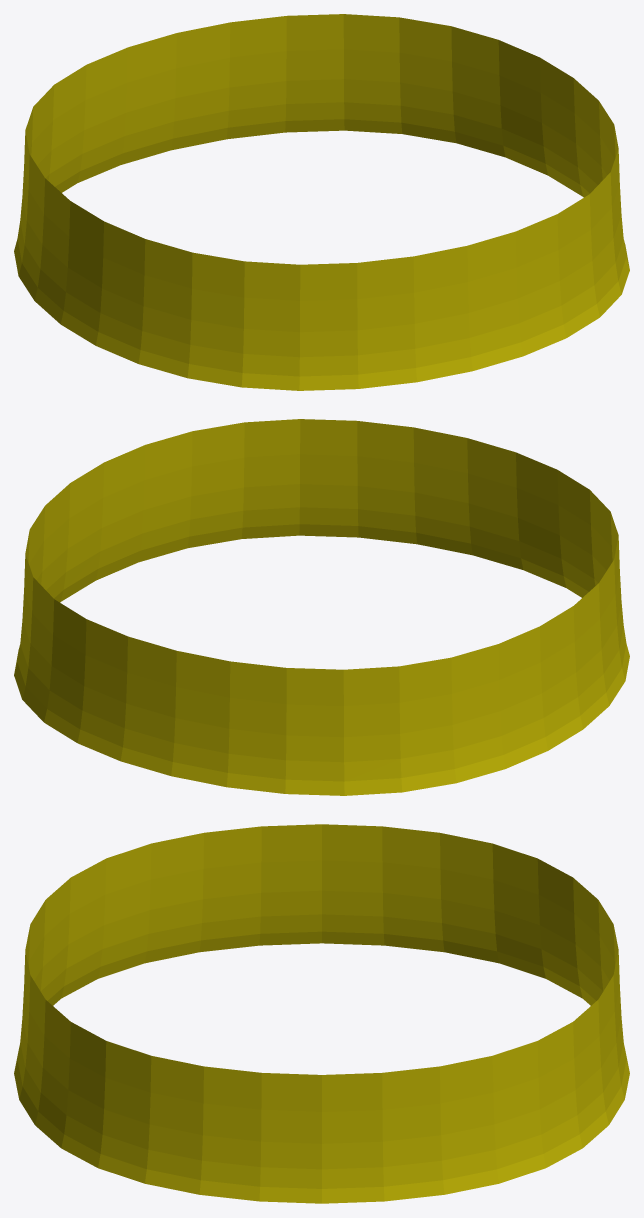
Rendered from CapY.obj.
The picture shows the model from 3 angles, top to bottom: view 1: azimuth 30°, elevation 25°; view 2: azimuth 150°, elevation 25°; view 3: azimuth 270°, elevation 25°; orthographic projection. The views are drawn at different scales.
Parts seen in each view (by area): view 1: Yelow_Cube.007; view 2: Yelow_Cube.007; view 3: Yelow_Cube.007.
Part boxes in pixels (<box>): Yelow_Cube.007: <box>14,14,629,390</box>; Yelow_Cube.007: <box>14,419,629,795</box>; Yelow_Cube.007: <box>14,824,629,1203</box>.
Bounding box in the file's own units: 1.3 × 0.2886 × 1.3.
